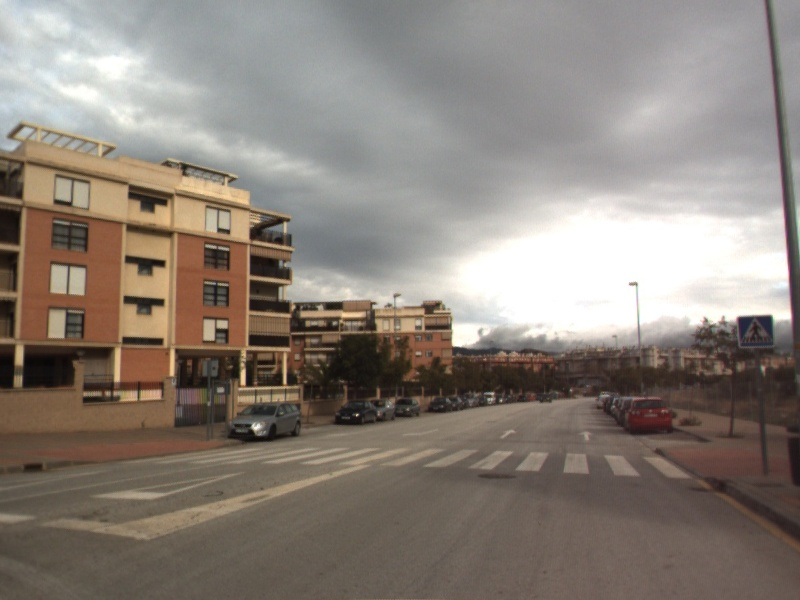STRAIGHT: (497, 427, 519, 441), (576, 428, 597, 442)
